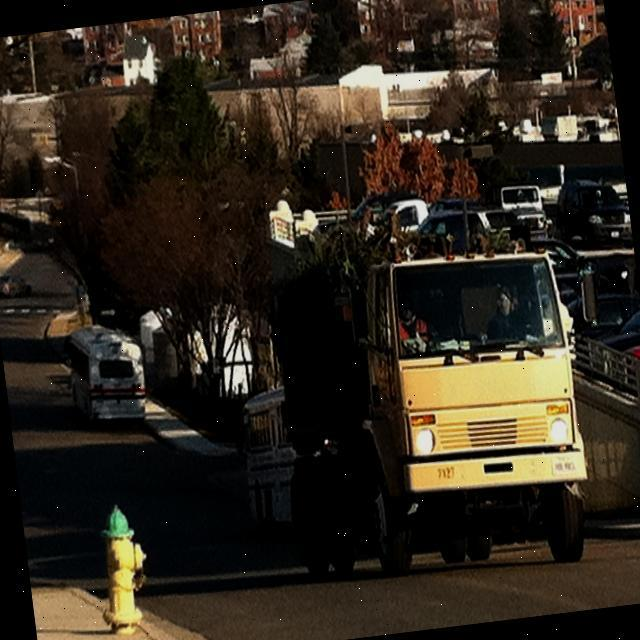fire_hydrant: (88, 500, 155, 635)
